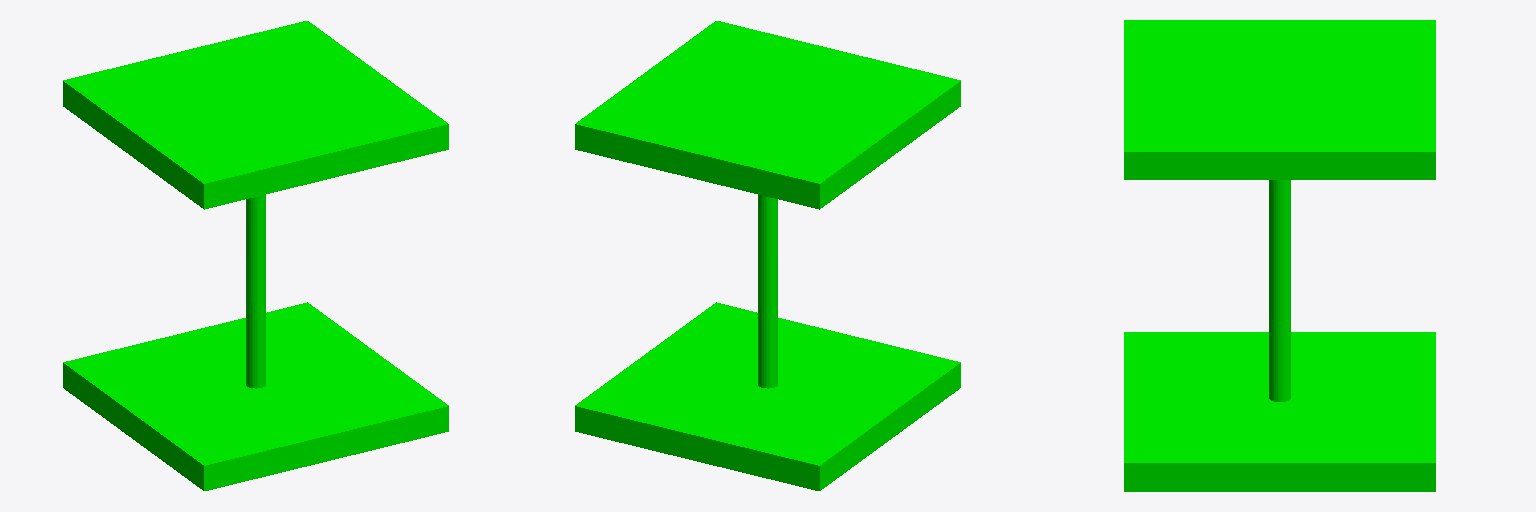
URDF robot description (plane):
<?xml version="0.0" ?>
<robot name="plane">
    <link name="base_link">
    <inertial>
      <origin rpy="0 1.57 0" xyz="0.26 0 0.25"/>
       <mass value="1"/>
       <inertia ixx="1" ixy="1" ixz="1" iyy="1" iyz="1" izz="1"/>
    </inertial>
      <visual>
        <origin rpy="0 1.57 0" xyz="0.26 0 0.25"/>
        <geometry>
          <mesh filename="squareDumbell.stl" scale="1 1 1"/>
        </geometry>
        <material name="green">
        <color rgba="0 1 0 1"/>
      </material>
      </visual>
      <collision>
      <origin rpy="0 1.57 0" xyz="0.26 0 0.25"/>
          <geometry>
            <mesh filename="squareDumbell.stl" scale="1 1 1"/>
          </geometry>
      </collision>
    </link>
    
</robot>

--- Render facts (derived) ---
3 views of the same robot in one strip: view 1: azimuth 30°, elevation 25°; view 2: azimuth 150°, elevation 25°; view 3: azimuth 270°, elevation 25° (orthographic).
Robot: plane — 1 links, 0 joints (none); root link base_link; default pose: every joint at zero.
Links seen in each view (by area): view 1: base_link; view 2: base_link; view 3: base_link.
Boxes of the visible links, x1,y1,x2,y2 form: base_link: (63, 21, 448, 490); base_link: (575, 21, 960, 490); base_link: (1124, 20, 1435, 491).
Bounding box of the posed robot: 0.5005 × 0.5 × 0.6004 m (x, y, z).
Meshes: 1 distinct files referenced, 1 mesh visuals loaded (1 binary STL).